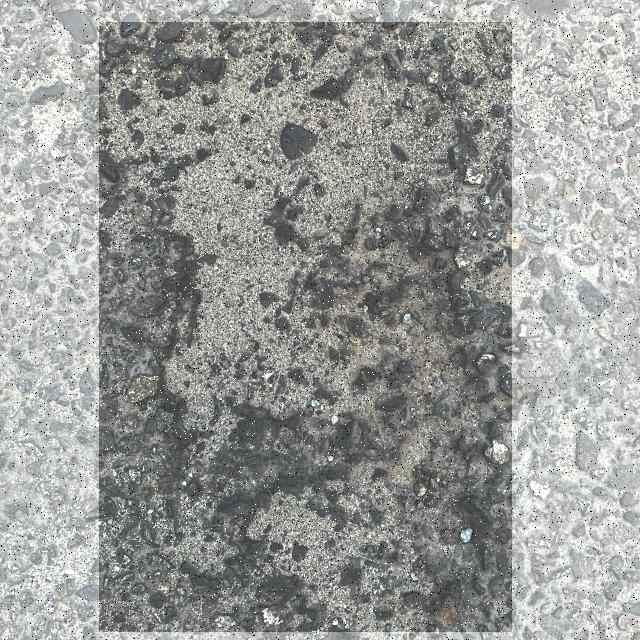damaged: (99, 22, 512, 632)
